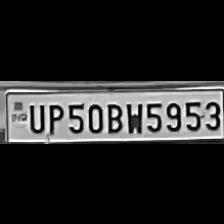0: (84, 100, 104, 132)
3: (202, 96, 220, 130)
5: (64, 99, 84, 133), (142, 98, 162, 132), (182, 96, 202, 130)
9: (163, 97, 181, 130)
B: (104, 99, 124, 133)
P: (44, 100, 64, 134)
U: (25, 100, 45, 132)
W: (123, 99, 143, 133)
